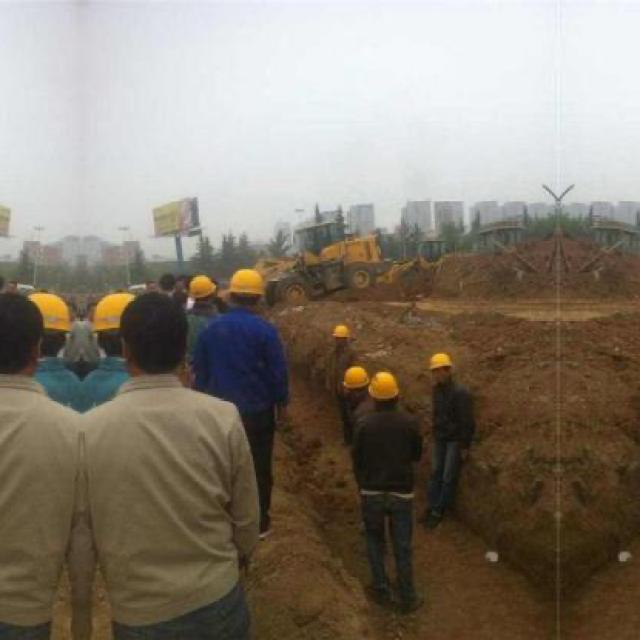con casco: (200, 262, 281, 332), (336, 358, 422, 421), (79, 278, 146, 344), (395, 339, 466, 397), (326, 353, 376, 409)
sin casco: (106, 278, 204, 427)
